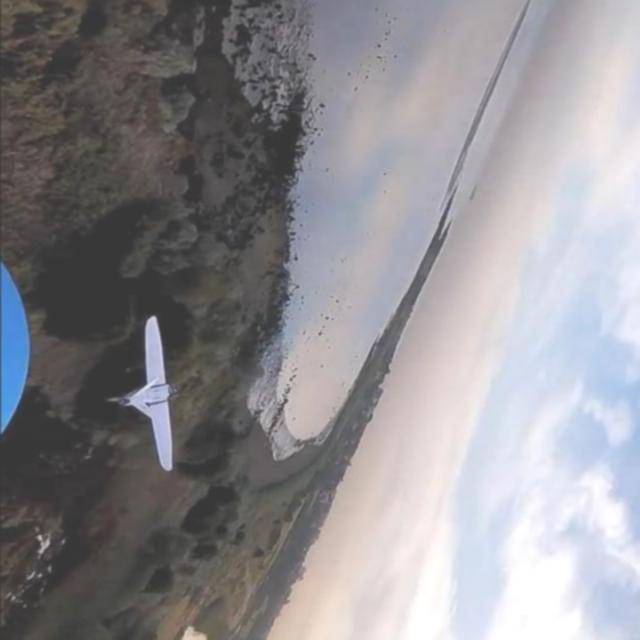plane: (105, 316, 184, 474)
